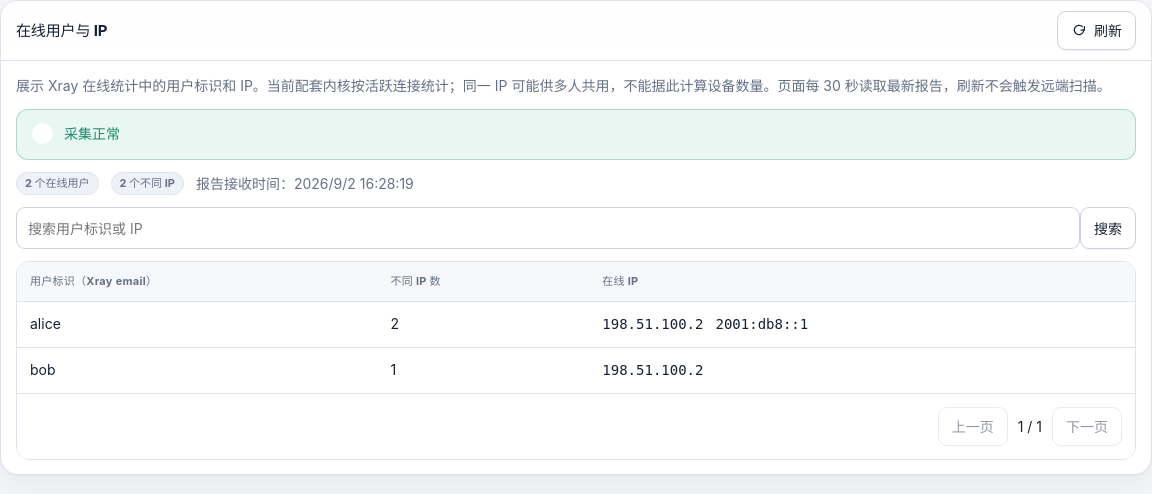
online users › shows user identities and unique IPs without equating IPs to devices
The width and height of the screenshot is (1152, 494).
Expected: the text "2 个在线用户" is shown, [16,172,98,195]
Expected: the text "2 个不同 IP" is shown, [110,172,184,195]
In the field named "搜索在线用户或 IP": (548, 228) [16,207,1080,249], type "2001:db8"
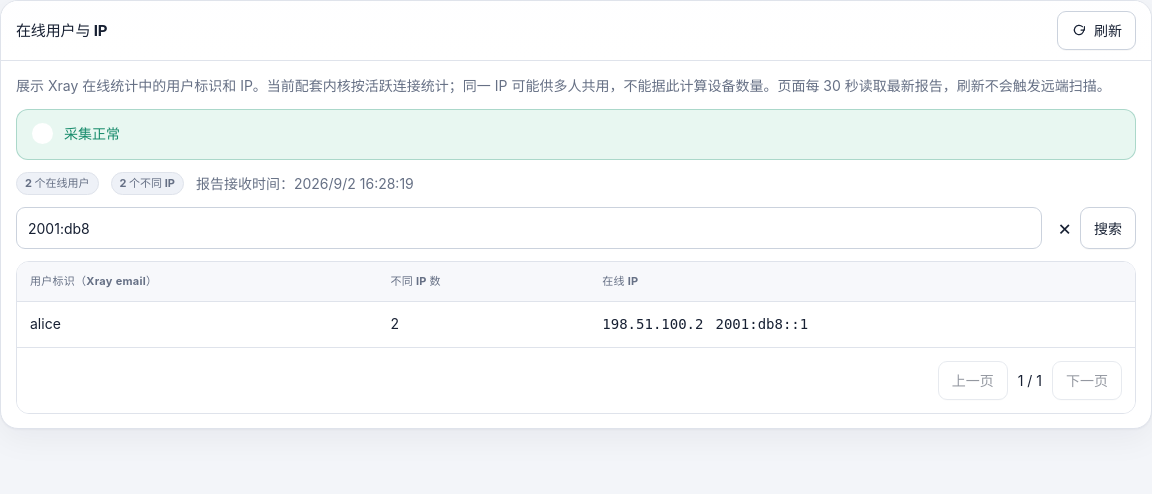
Expected: the text "alice" is shown, [30,316,61,332]
Expected: the text "bob" is gone
